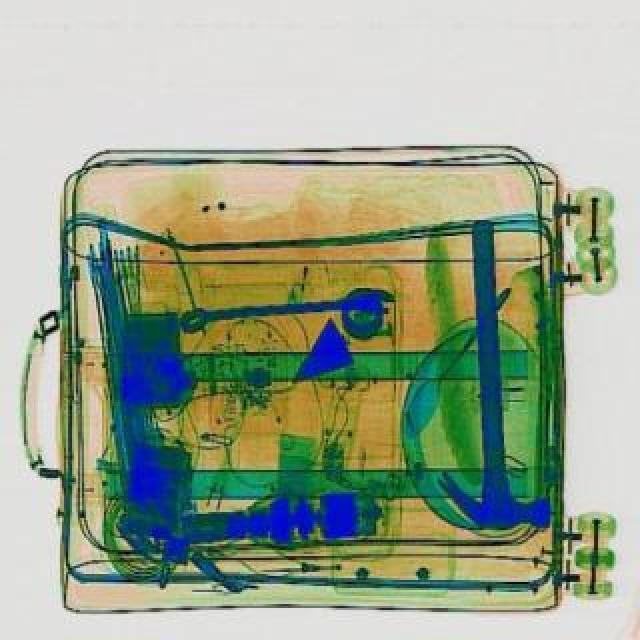scissors: (176, 284, 396, 332)
